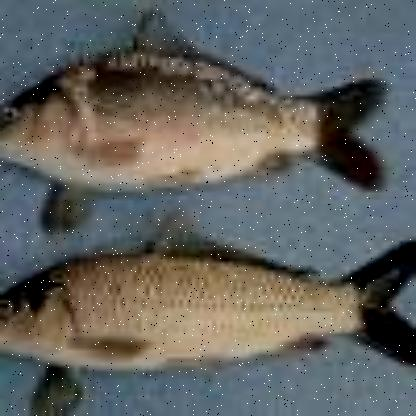ikan-mas: (0, 229, 416, 401), (0, 16, 384, 191)
